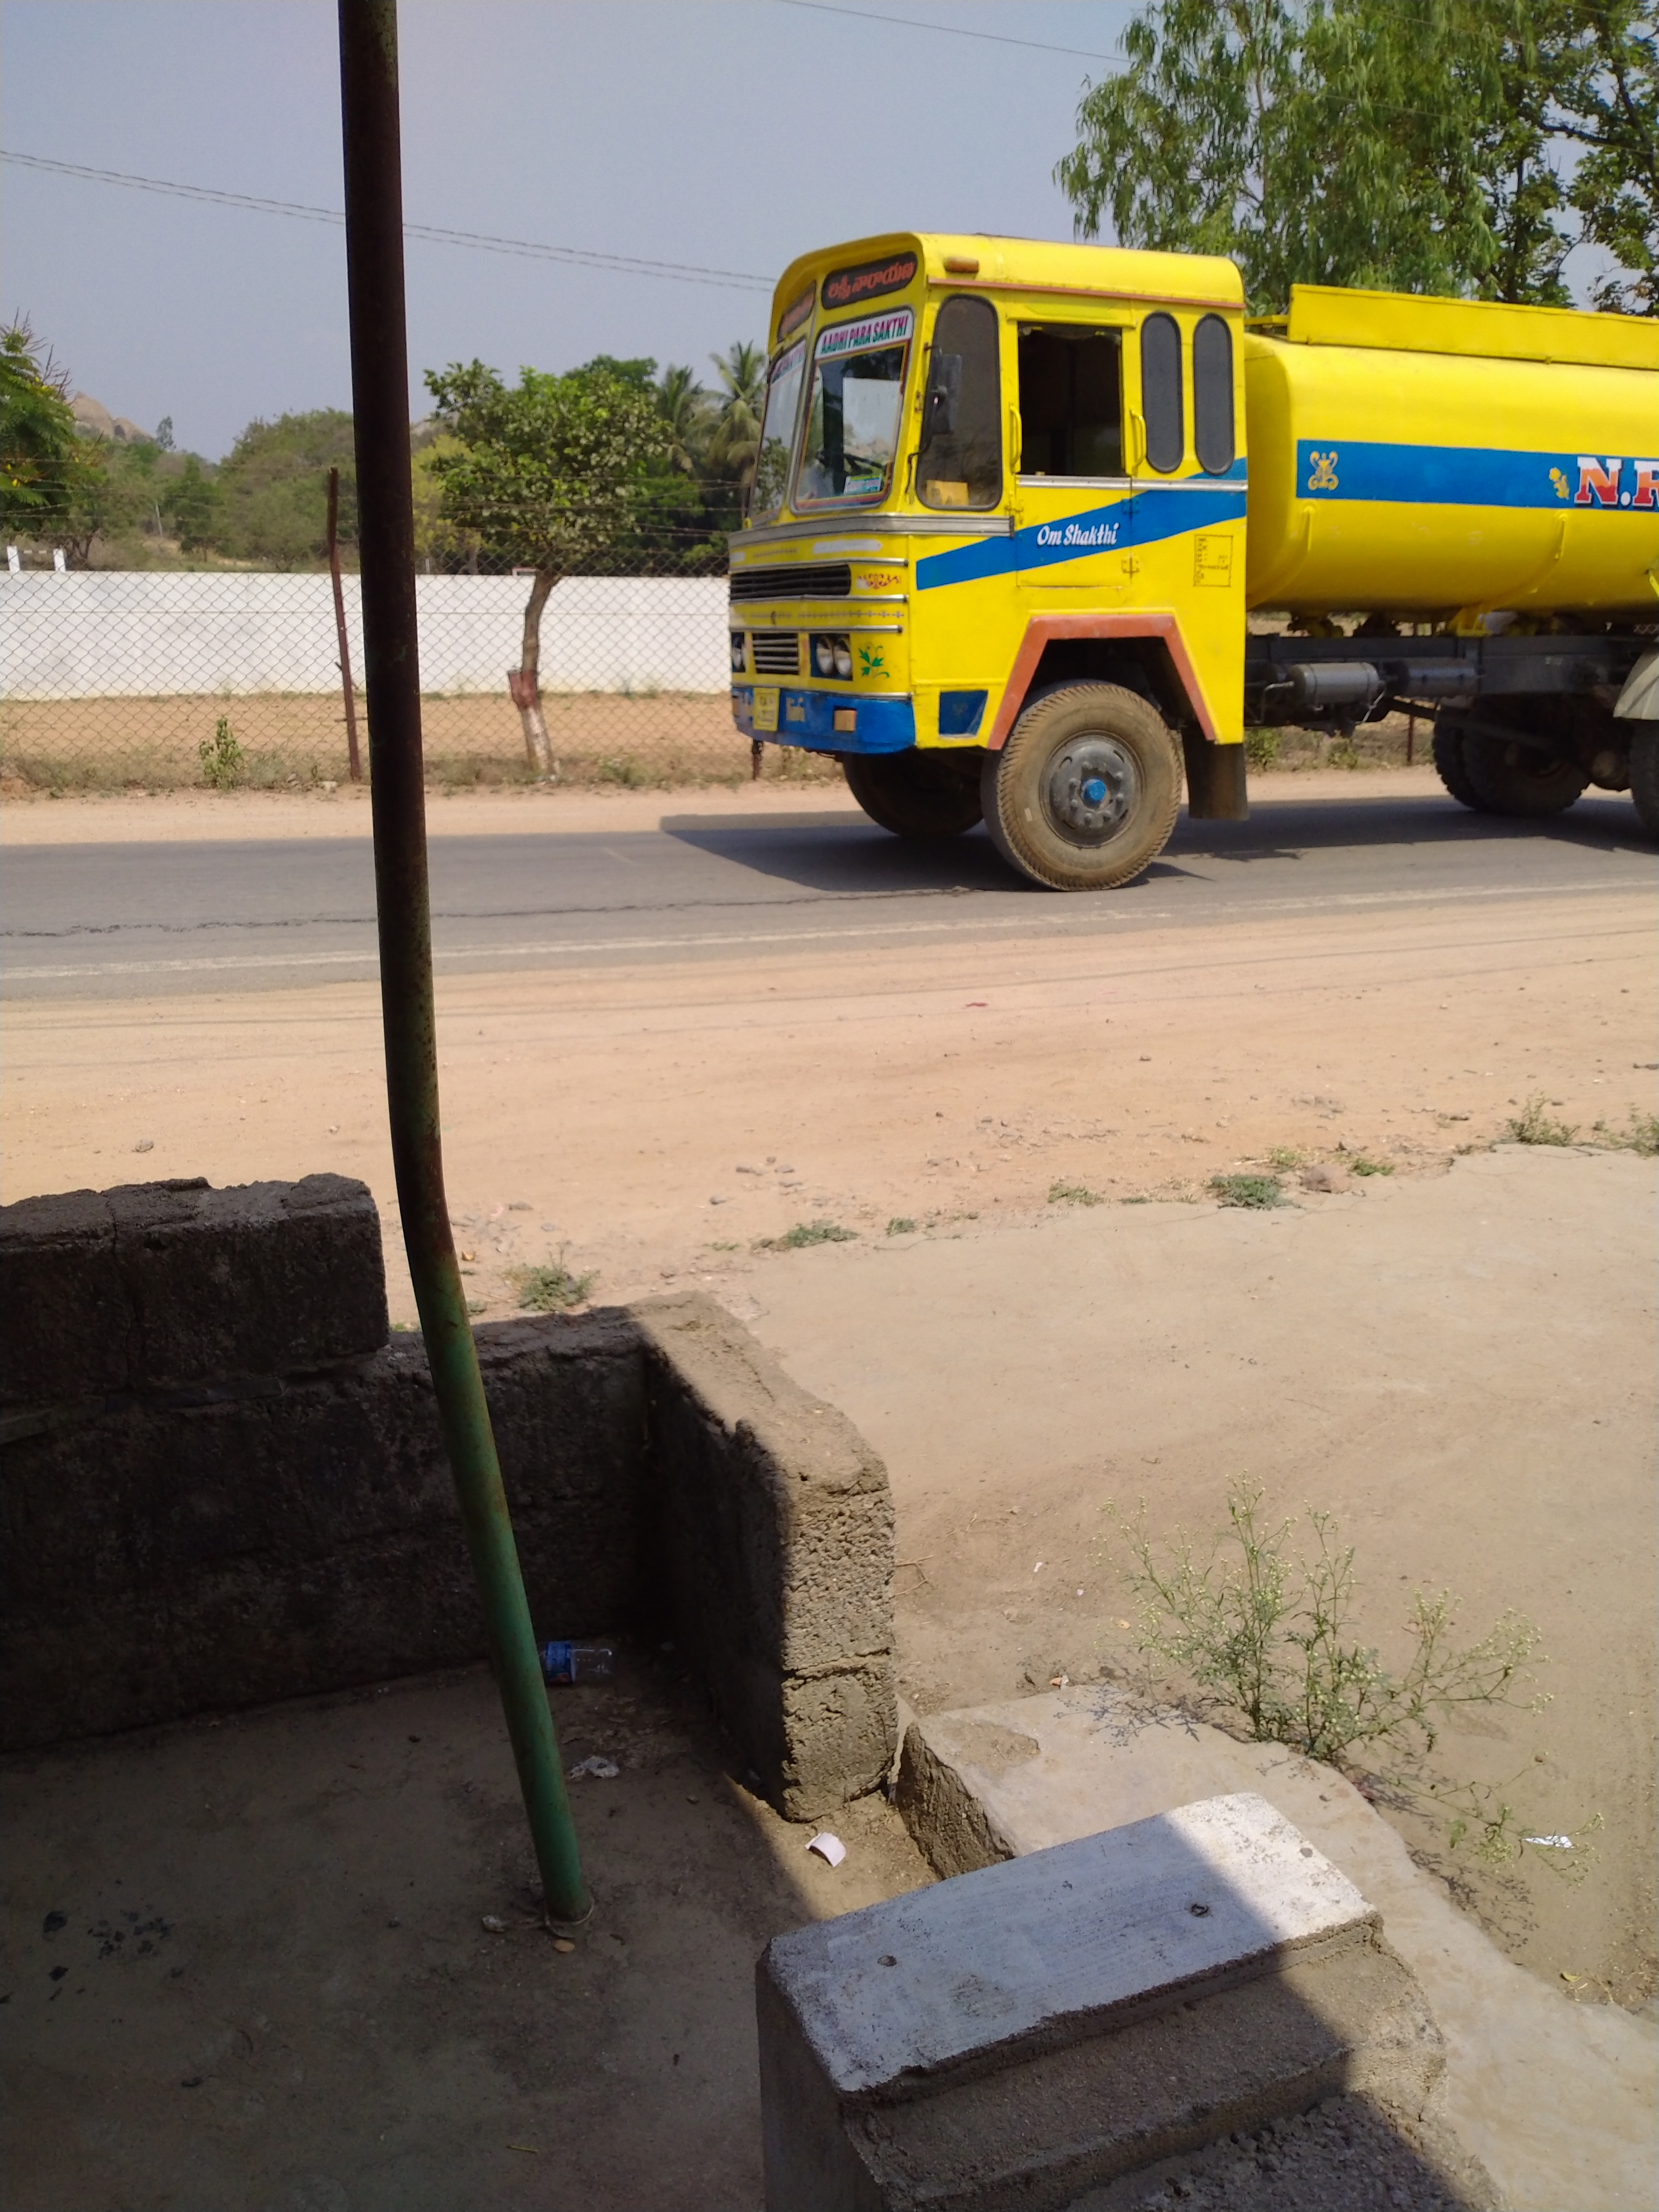truck: (716, 228, 1659, 897)
